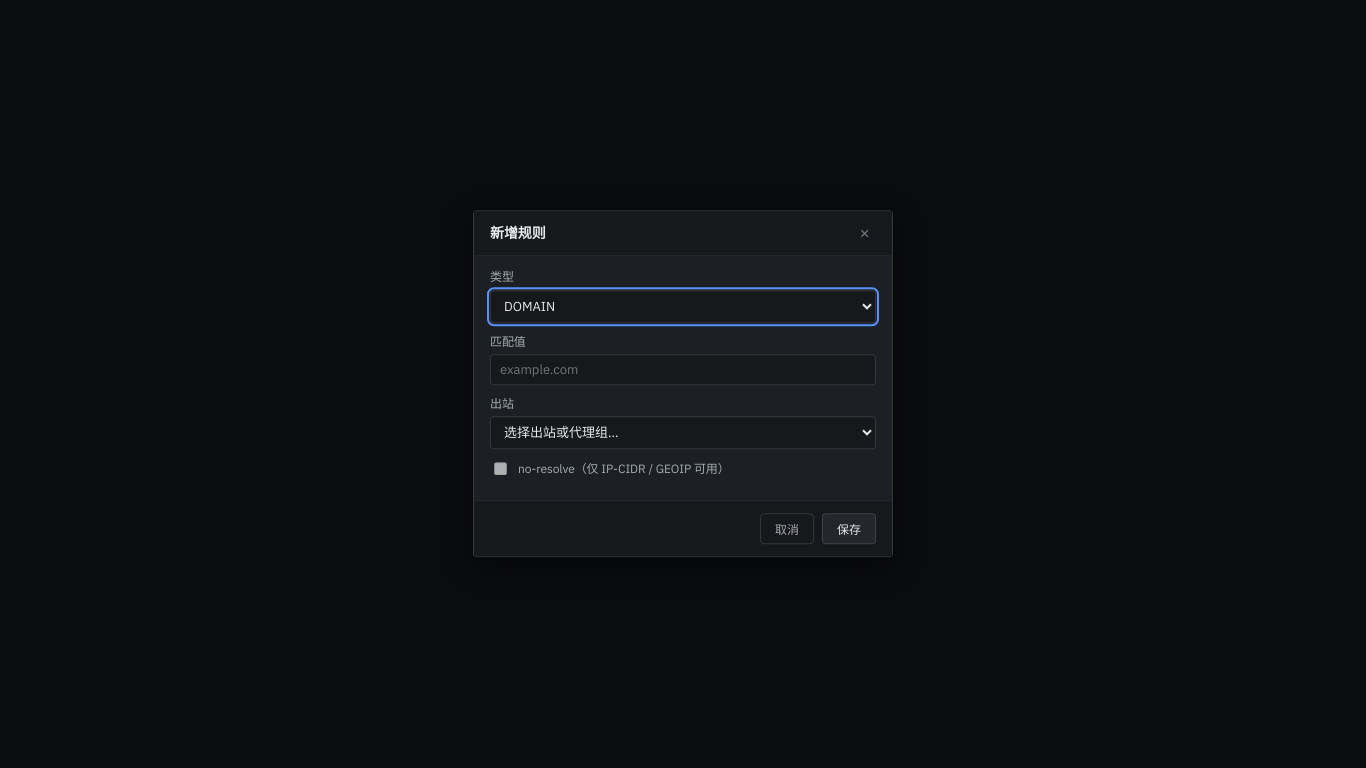
Test case: 规则表单 —— 新增 › 切到 GEOIP 后 no-resolve 复选框可勾选
Select "GEOIP" in the dropdown labelled "类型" at (683, 306), box 490,290 -> 876,323
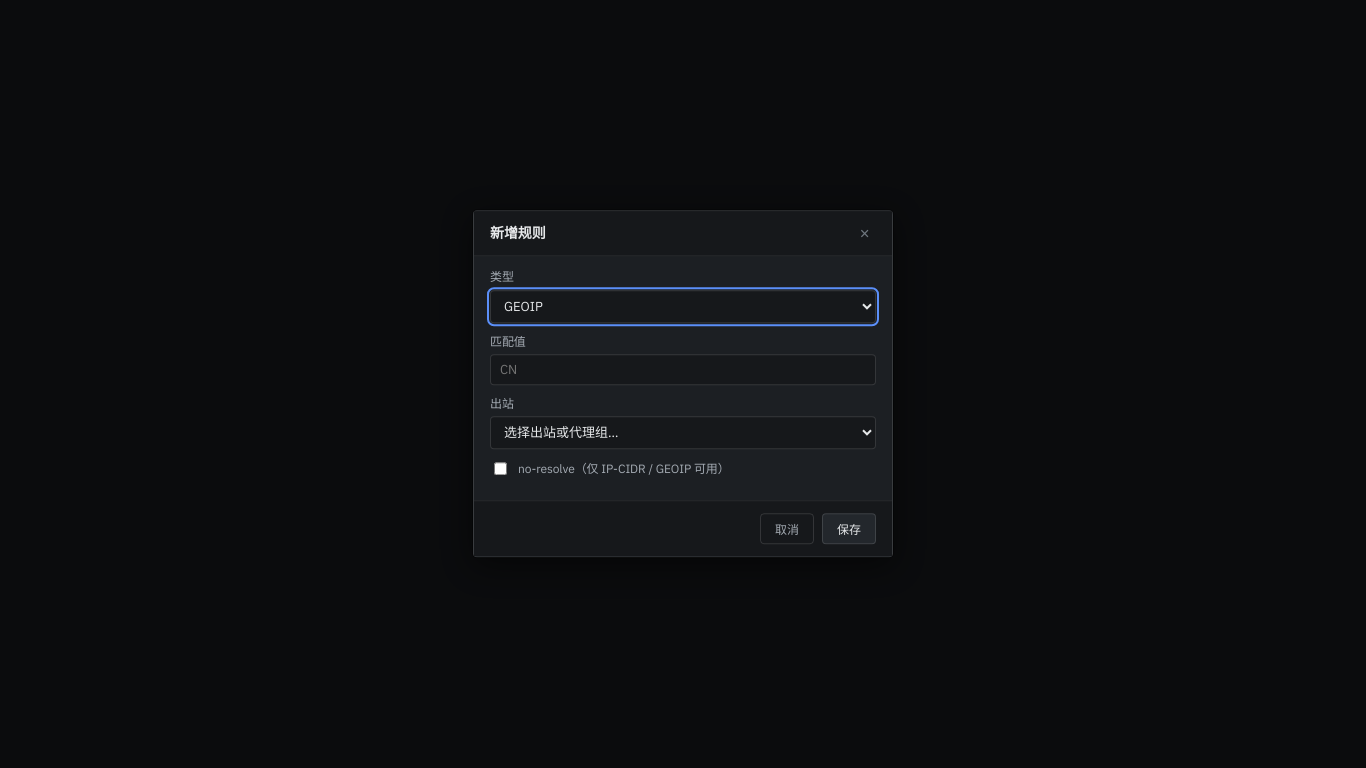
Now the checkbox labelled "no-resolve（仅 IP-CIDR / GEOIP 可用）" is enabled, box 494,463 -> 507,476
